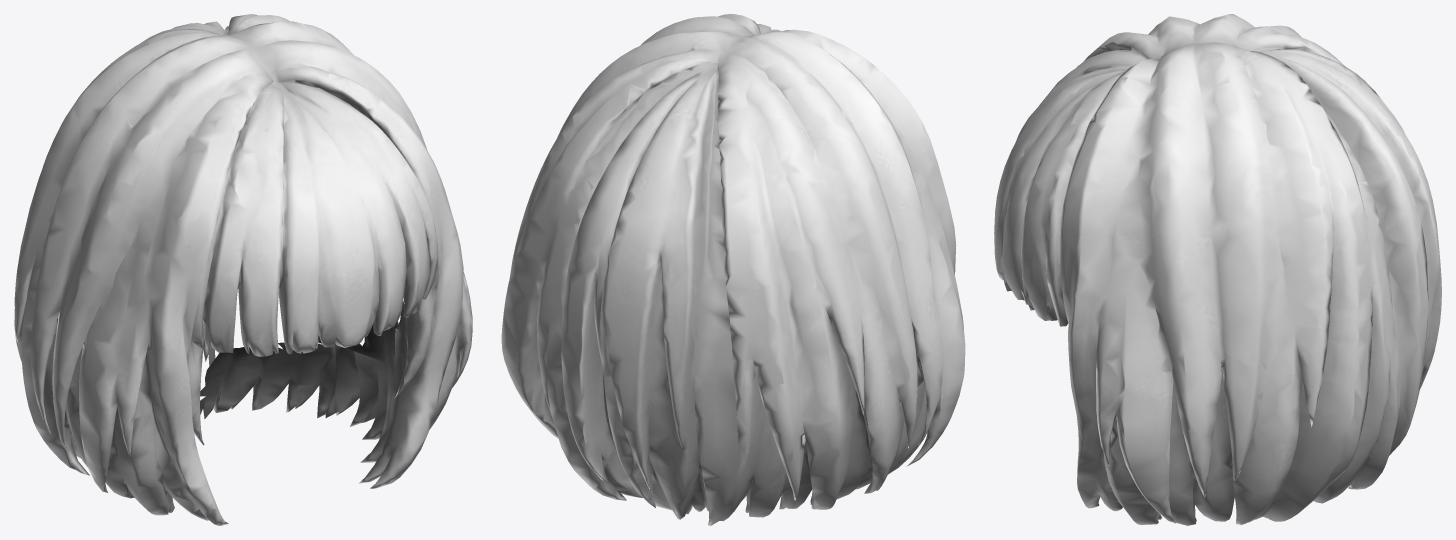
File: hair-bob.glb
3 renders of one model, left to right at view 1: azimuth 30°, elevation 25°; view 2: azimuth 150°, elevation 25°; view 3: azimuth 270°, elevation 25°, orthographic.
Parts seen in each view (by area): view 1: tripo_node_1f8a843b-b279-45fd-9a57-8f2121076691; view 2: tripo_node_1f8a843b-b279-45fd-9a57-8f2121076691; view 3: tripo_node_1f8a843b-b279-45fd-9a57-8f2121076691.
Part boxes in pixels (bbox=[...]): tripo_node_1f8a843b-b279-45fd-9a57-8f2121076691: bbox=[14, 14, 472, 525]; tripo_node_1f8a843b-b279-45fd-9a57-8f2121076691: bbox=[501, 14, 965, 525]; tripo_node_1f8a843b-b279-45fd-9a57-8f2121076691: bbox=[994, 14, 1441, 525].
Bounding box in the file's own units: 0.2728 × 0.2872 × 0.2666.
1 material, 1 textured.
